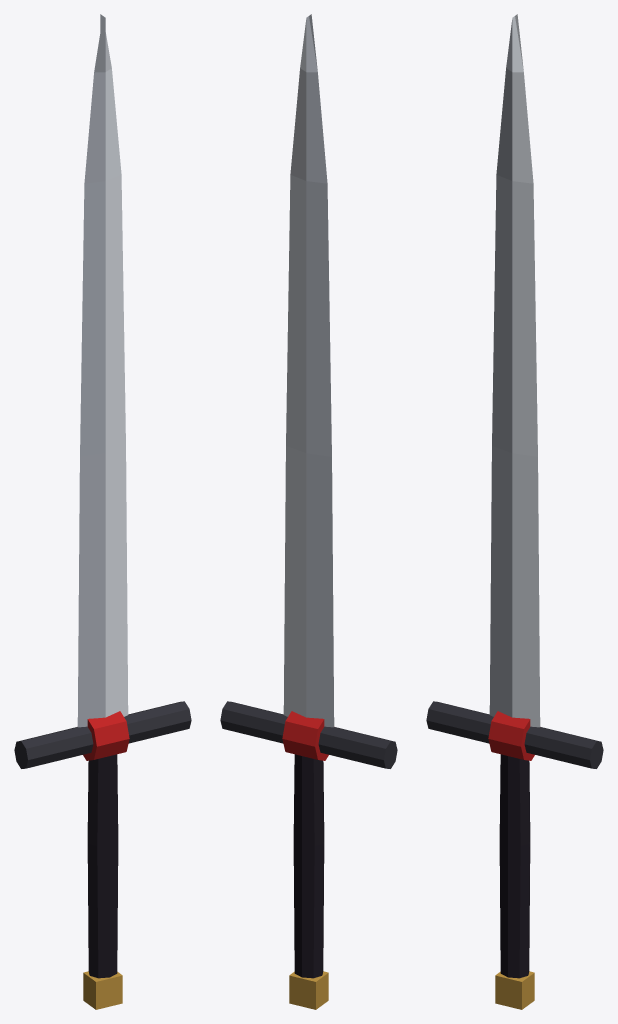
The model's file is sword.obj.
3 renders of one model, left to right at view 1: azimuth 30°, elevation 25°; view 2: azimuth 150°, elevation 25°; view 3: azimuth 330°, elevation 25°, orthographic.
Parts seen in each view (by area): view 1: sword; view 2: sword; view 3: sword.
Part boxes in pixels (box(x1,y1,x2,y2)): sword: box(14, 14, 191, 1009); sword: box(220, 14, 397, 1009); sword: box(426, 14, 603, 1009).
Bounding box in the file's own units: 0.253 × 1.46 × 0.0552.
